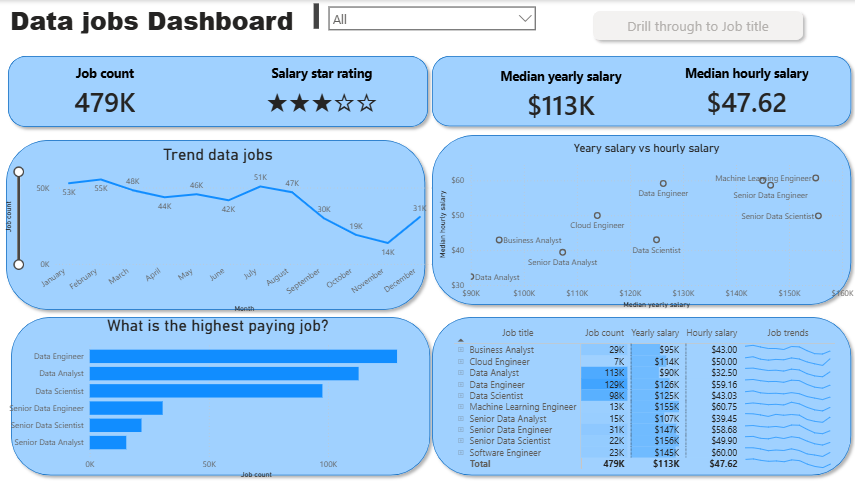

This screenshot's page, from the dashboard's own definition file:
{"tool":"powerbi","page":{"name":"Dashboard","canvas":[1280,720],"ordinal":0},"visuals":[{"type":"group","id":"g1","title":"Group 1","box":[0,74.7,1280,644.8],"z":0},{"type":"shape","box":[3,74.7,645.3,124],"z":0,"group":"g1"},{"type":"textbox","box":[10.5,0,470.5,55.3],"z":1000},{"type":"shape","box":[0,200,644.3,271.7],"z":1000,"group":"g1"},{"type":"slicer","fields":{"Values":["job_postings_flat.job_title_short"]},"box":[481,0,328.6,68.7],"z":2000},{"type":"shape","box":[635.7,193.1,644.3,271.7],"z":2000,"group":"g1"},{"type":"cardVisual","fields":{"Data":["job_postings_flat.Salary satr rating"]},"box":[316.7,68.7,328.6,135.9],"z":3000},{"type":"shape","box":[6.8,464.8,644.3,254.6],"z":3000,"group":"g1"},{"type":"cardVisual","fields":{"Data":["Median(job_postings_flat.salary_year_avg)"]},"box":[673.3,73.5,328.1,136.7],"z":4000},{"type":"shape","box":[635.7,464.8,644.3,254.6],"z":4000,"group":"g1"},{"type":"cardVisual","fields":{"Data":["CountNonNull(job_postings_flat.job_title_short)"]},"box":[0,68.7,313.7,135.9],"z":5000},{"type":"shape","box":[635.7,75.2,644.3,123],"z":5000,"group":"g1"},{"type":"cardVisual","fields":{"Data":["Median(job_postings_flat.salary_hour_avg)"]},"box":[951.5,68.7,328.6,135.9],"z":6000},{"type":"lineChart","title":"Trend data jobs ","fields":{"Y":["CountNonNull(job_postings_flat.job_title_short)"],"Category":["job_postings_flat.job_posted_date.Variation.Date Hierarchy.Month"]},"box":[0,217,651.1,254.6],"z":7000},{"type":"barChart","title":"What is the highest paying job?","fields":{"Category":["job_postings_flat.job_title_short"],"Y":["CountNonNull(job_postings_flat.job_title_short)"]},"box":[0,472,651.3,248],"z":8000},{"type":"scatterChart","title":"Yeary salary vs hourly salary","fields":{"Y":["Median(job_postings_flat.salary_hour_avg)"],"X":["Median(job_postings_flat.salary_year_avg)"],"Series":["job_postings_flat.job_title_short"]},"box":[651.1,210.2,628.9,254.6],"z":9000},{"type":"pivotTable","fields":{"Rows":["job_postings_flat.job_title_short","job_postings_flat.job_posted_date.Variation.Date Hierarchy.Quarter"],"Values":["CountNonNull(job_postings_flat.job_title_short)","Median(job_postings_flat.salary_year_avg)","Median(job_postings_flat.salary_hour_avg)","SparklineData(CountNonNull(job_postings_flat.job_title_short)_[job_postings_flat.job_posted_date.Variation.Date Hierarch"]},"box":[673.3,481.9,606.7,227.3],"z":10000},{"type":"actionButton","box":[876.8,7.5,331.6,61.2],"z":11000}]}

Visuals, with their boxes in screenshot pixels (x1, y1, x2, y2), scaled from the page's 1280x720 canvas onto the 855x481 screenshot:
"Group 1" group: box(0, 50, 854, 480)
shape: box(2, 50, 433, 133)
textbox: box(7, 0, 321, 37)
shape: box(0, 134, 430, 315)
slicer - job_postings_flat.job_title_short: box(321, 0, 541, 46)
shape: box(425, 129, 854, 311)
cardVisual - job_postings_flat.Salary satr rating: box(212, 46, 431, 137)
shape: box(5, 311, 435, 480)
cardVisual - Median(job_postings_flat.salary_year_avg): box(450, 49, 669, 140)
shape: box(425, 311, 854, 480)
cardVisual - CountNonNull(job_postings_flat.job_title_short): box(0, 46, 210, 137)
shape: box(425, 50, 854, 132)
cardVisual - Median(job_postings_flat.salary_hour_avg): box(636, 46, 854, 137)
"Trend data jobs " lineChart: box(0, 145, 435, 315)
"What is the highest paying job?" barChart: box(0, 315, 435, 480)
"Yeary salary vs hourly salary" scatterChart: box(435, 140, 854, 311)
pivotTable - job_postings_flat.job_title_short x job_postings_flat.job_posted_date.Variation.Date Hierarchy.Quarter: box(450, 322, 854, 474)
actionButton: box(586, 5, 807, 46)
